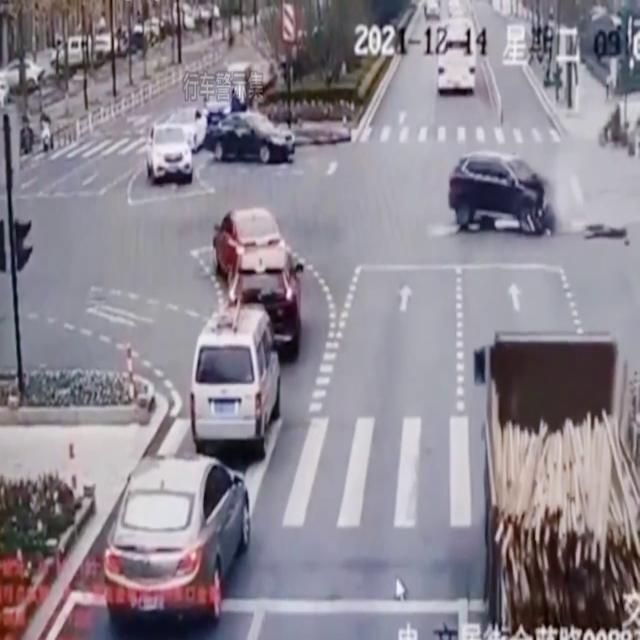multiple_accident: (408, 125, 640, 282)
normal: (83, 190, 322, 640), (432, 293, 640, 640)
